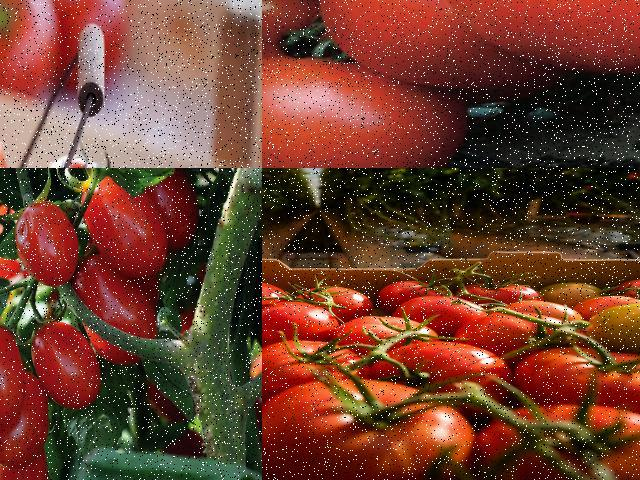tomato: (319, 0, 557, 111), (262, 56, 482, 167), (262, 375, 476, 479), (431, 0, 639, 91), (479, 407, 639, 479), (70, 168, 172, 279), (68, 263, 158, 372), (372, 343, 520, 404), (512, 343, 639, 408), (262, 333, 371, 401), (1, 197, 84, 286), (27, 323, 106, 412), (0, 0, 65, 106), (0, 367, 53, 469), (262, 0, 335, 74), (391, 298, 487, 334), (292, 285, 372, 321), (0, 324, 26, 429), (458, 279, 540, 308), (366, 280, 453, 306), (496, 304, 584, 327), (262, 280, 295, 317), (0, 459, 55, 479), (576, 298, 627, 304)
